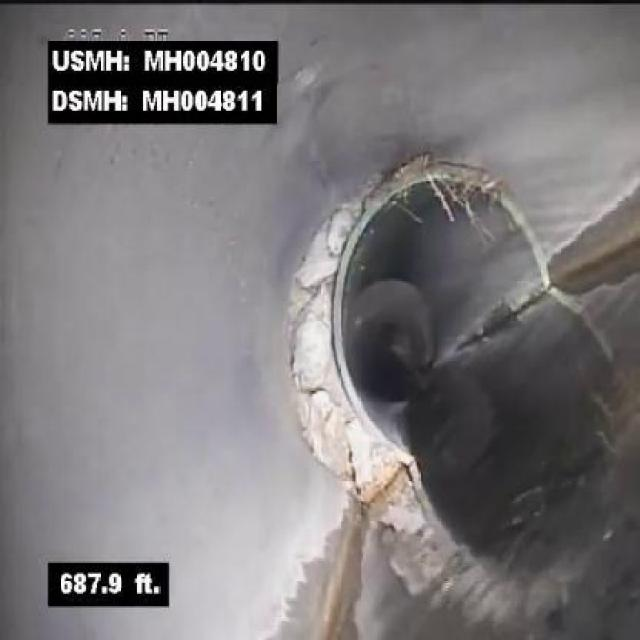Joint offset: (283, 197, 348, 366), (291, 378, 355, 489)
